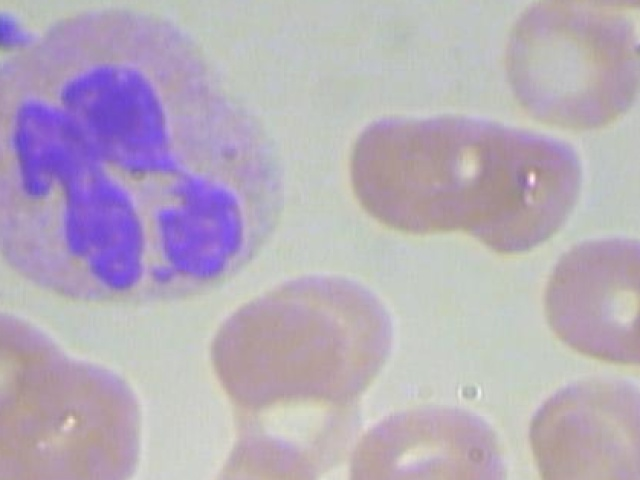Platelets: (0, 4, 39, 56)
RBC: (331, 113, 488, 240), (209, 293, 370, 412), (498, 0, 640, 130), (338, 387, 514, 480), (538, 228, 640, 365), (0, 307, 69, 444), (622, 231, 640, 411), (357, 477, 514, 480)
WBC: (0, 0, 323, 308)
